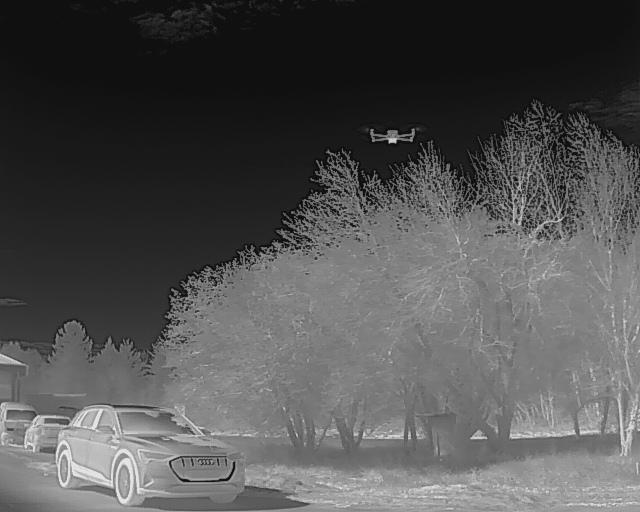drone: (355, 121, 430, 154)
